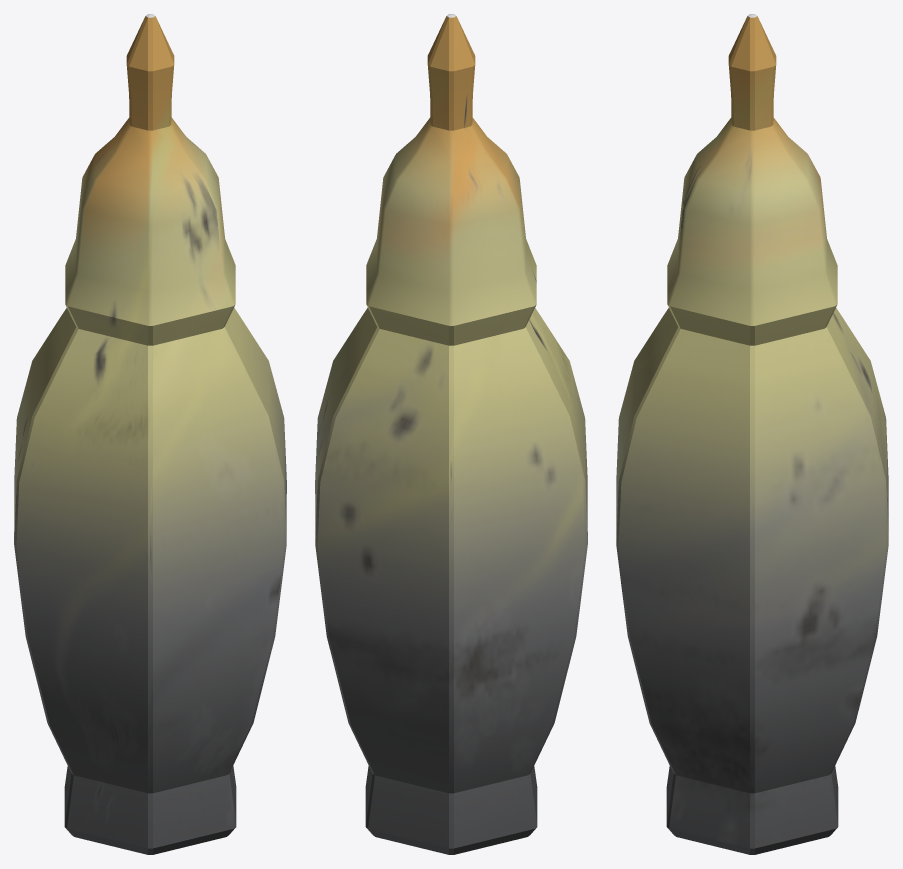
File: Vase_Profiled_GradientPic.fbx
3 views of the same model, side by side, from view 1: azimuth 30°, elevation 25°; view 2: azimuth 150°, elevation 25°; view 3: azimuth 270°, elevation 25° (orthographic).
Parts seen in each view (by area): view 1: Vase_Profiled_GradientPic; view 2: Vase_Profiled_GradientPic; view 3: Vase_Profiled_GradientPic.
Part boxes in pixels (bbox=[...]): Vase_Profiled_GradientPic: bbox=[14, 14, 286, 854]; Vase_Profiled_GradientPic: bbox=[315, 14, 587, 854]; Vase_Profiled_GradientPic: bbox=[616, 14, 888, 854].
Bounding box in the file's own units: 21.48 × 61.28 × 18.75.
